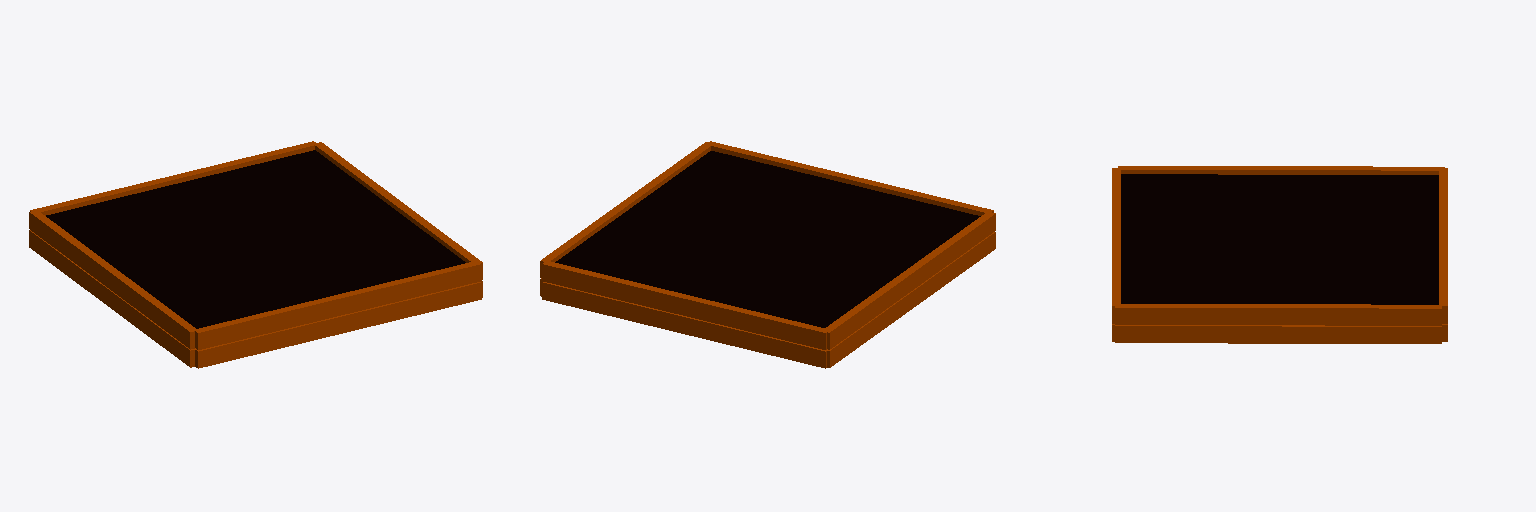
File: garden.obj
The picture shows the model from 3 angles: view 1: azimuth 30°, elevation 25°; view 2: azimuth 150°, elevation 25°; view 3: azimuth 270°, elevation 25°; orthographic projection.
Parts seen in each view (by area): view 1: Cube_Cube.001, Cube.001_Cube.002, Cube.002_Cube.003, Cube.005_Cube.006, Cube.006_Cube.007, Cube.004_Cube.005, Cube.008_Cube.009; view 2: Cube_Cube.001, Cube.004_Cube.005, Cube.003_Cube.004, Cube.005_Cube.006, Cube.006_Cube.007, Cube.001_Cube.002, Cube.008_Cube.009; view 3: Cube_Cube.001, Cube.008_Cube.009, Cube.007_Cube.008, Cube.005_Cube.006, Cube.004_Cube.005, Cube.001_Cube.002.
Part boxes in pixels (bbox=[...]): Cube_Cube.001: bbox=[46, 150, 465, 328]; Cube.001_Cube.002: bbox=[194, 262, 481, 349]; Cube.002_Cube.003: bbox=[195, 282, 481, 368]; Cube.005_Cube.006: bbox=[29, 210, 196, 349]; Cube.006_Cube.007: bbox=[29, 230, 195, 367]; Cube.004_Cube.005: bbox=[30, 141, 318, 215]; Cube.008_Cube.009: bbox=[315, 142, 482, 279]; Cube_Cube.001: bbox=[555, 151, 980, 327]; Cube.004_Cube.005: bbox=[542, 261, 828, 349]; Cube.003_Cube.004: bbox=[542, 282, 827, 368]; Cube.005_Cube.006: bbox=[825, 212, 995, 349]; Cube.006_Cube.007: bbox=[827, 232, 995, 367]; Cube.001_Cube.002: bbox=[705, 141, 993, 215]; Cube.008_Cube.009: bbox=[540, 142, 710, 277]; Cube_Cube.001: bbox=[1121, 174, 1438, 304]; Cube.008_Cube.009: bbox=[1115, 304, 1441, 325]; Cube.007_Cube.008: bbox=[1115, 325, 1441, 343]; Cube.005_Cube.006: bbox=[1118, 166, 1444, 174]; Cube.004_Cube.005: bbox=[1439, 168, 1447, 323]; Cube.001_Cube.002: bbox=[1112, 168, 1120, 323].
Size of the model in its own units: 15.07 by 1.85 by 14.95.